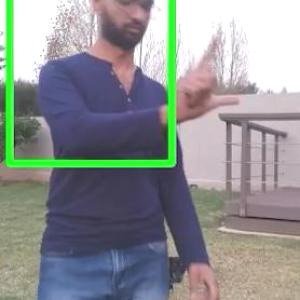land_hand: (162, 27, 239, 119)
